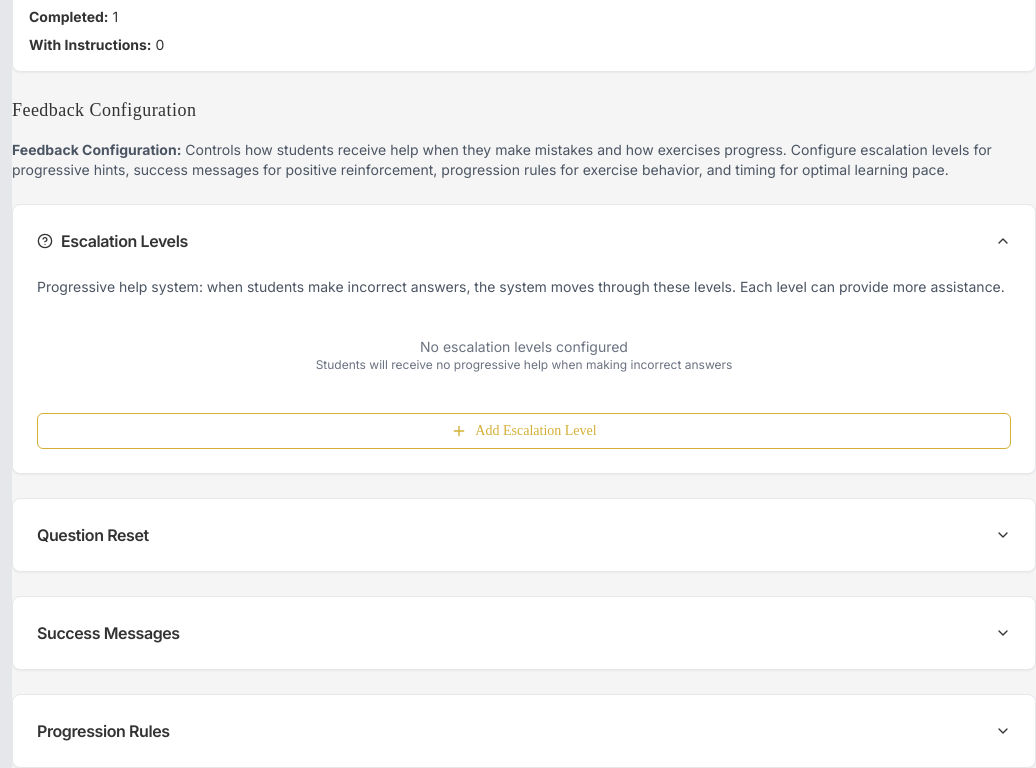
Test: auto-advance setting in the editor › leaves the auto-advance settings out for translation grading, which always moves on manually
The width and height of the screenshot is (1036, 768).
(page scrolled)
Click the text "Progression Rules": [103, 731] box [37,719,170,743]
(page scrolled)
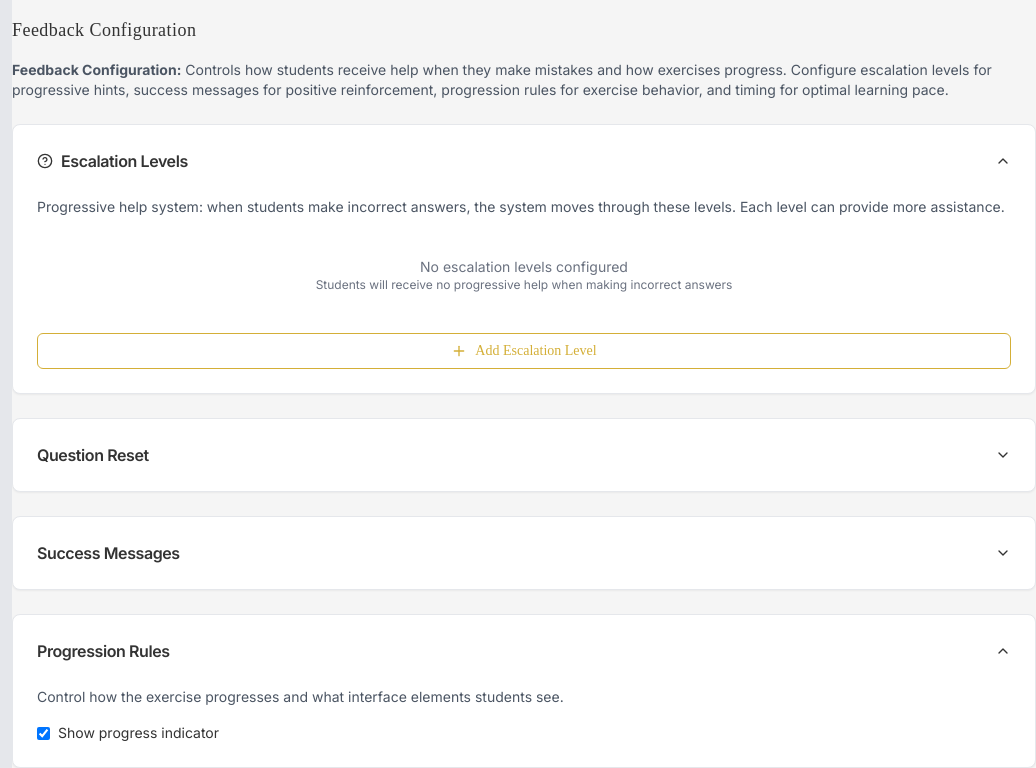
Expected: the checkbox labelled "Show progress indicator" is shown, [37,726,50,740]
